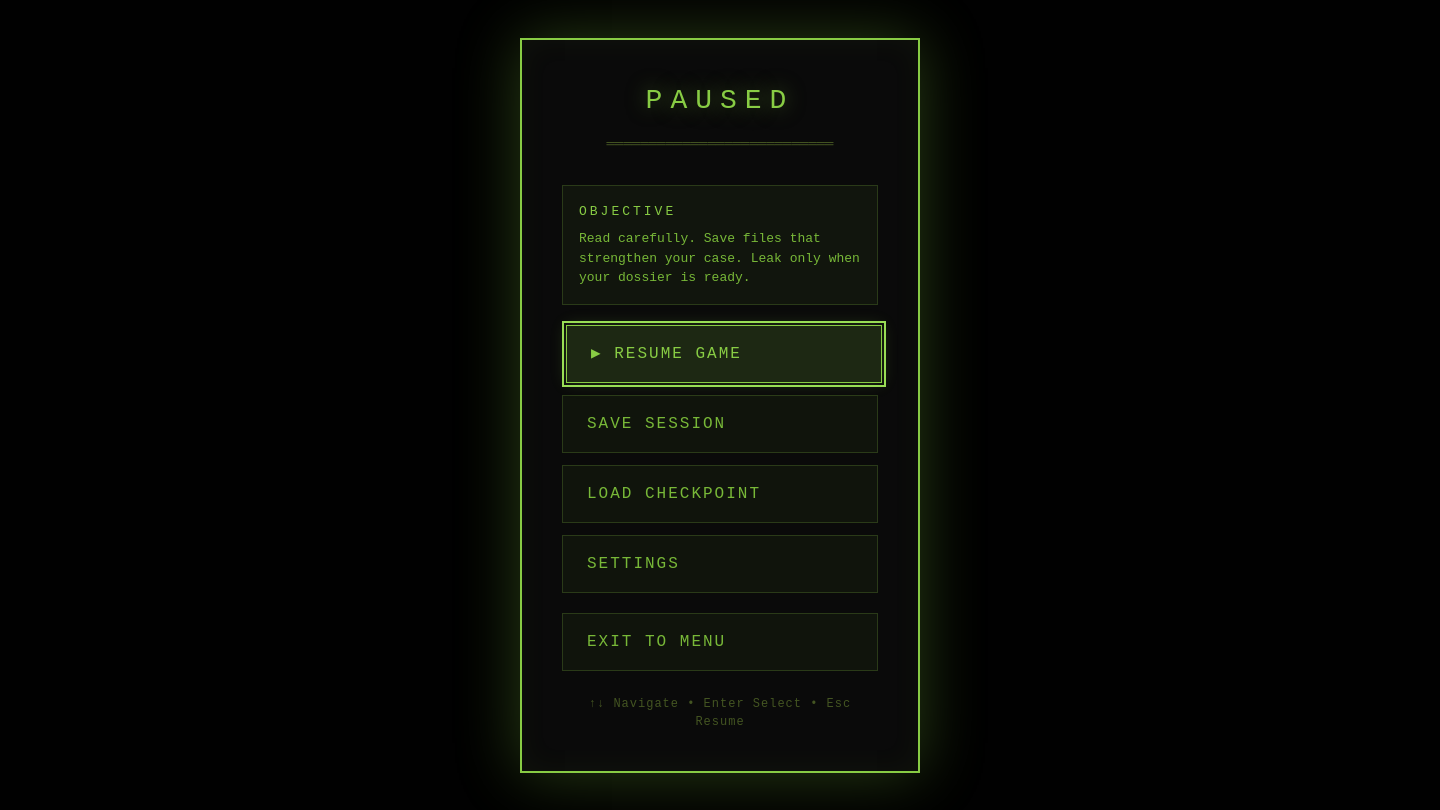
PauseMenu › Main Pause Menu › shows exit confirmation when clicking EXIT
The width and height of the screenshot is (1440, 810).
Click the button "EXIT TO MENU" at (720, 642), box [562,612,878,670]
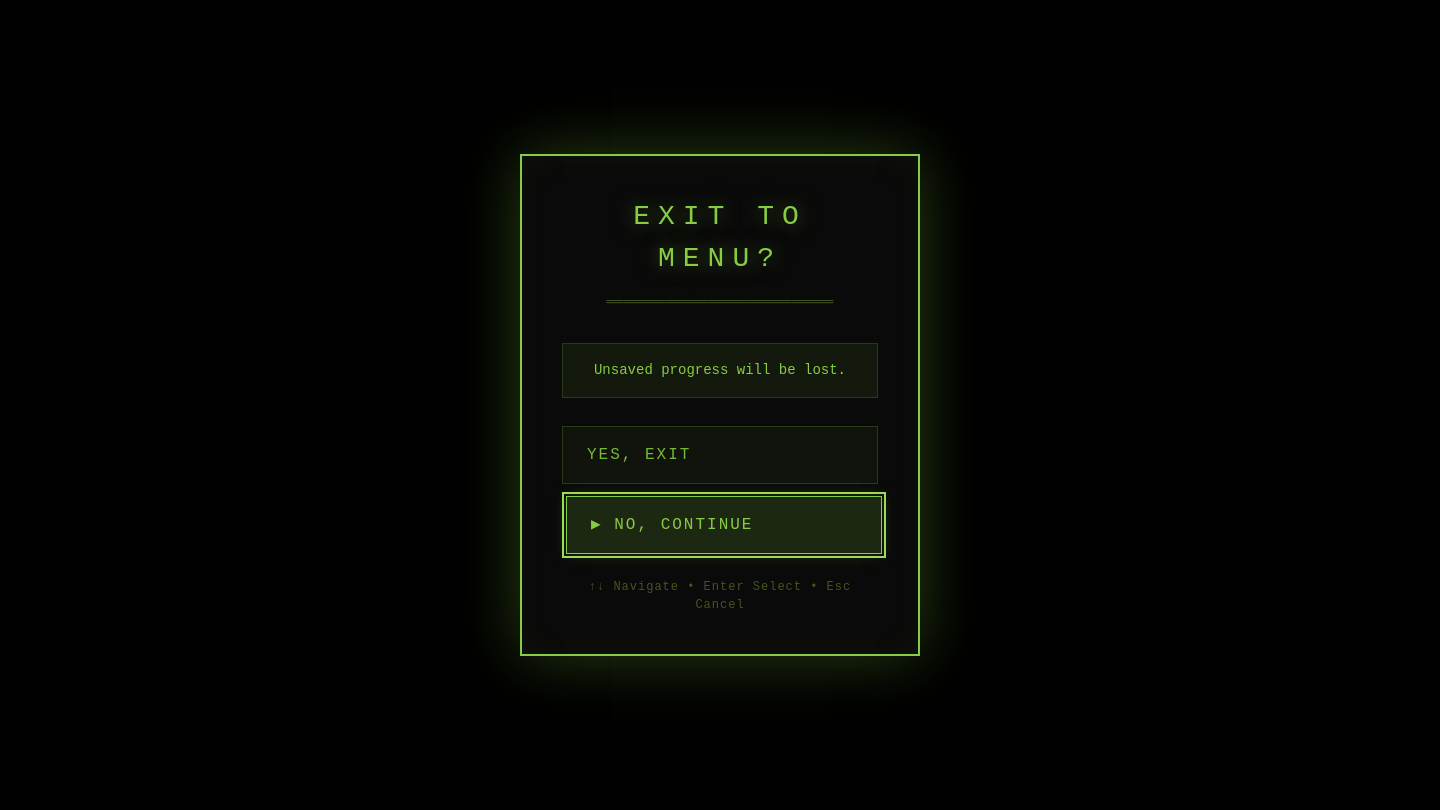
Expected: the heading "EXIT TO MENU?" is shown, [633,201,807,274]
Expected: the text "Unsaved progress will be lost." is shown, [562,343,878,398]
